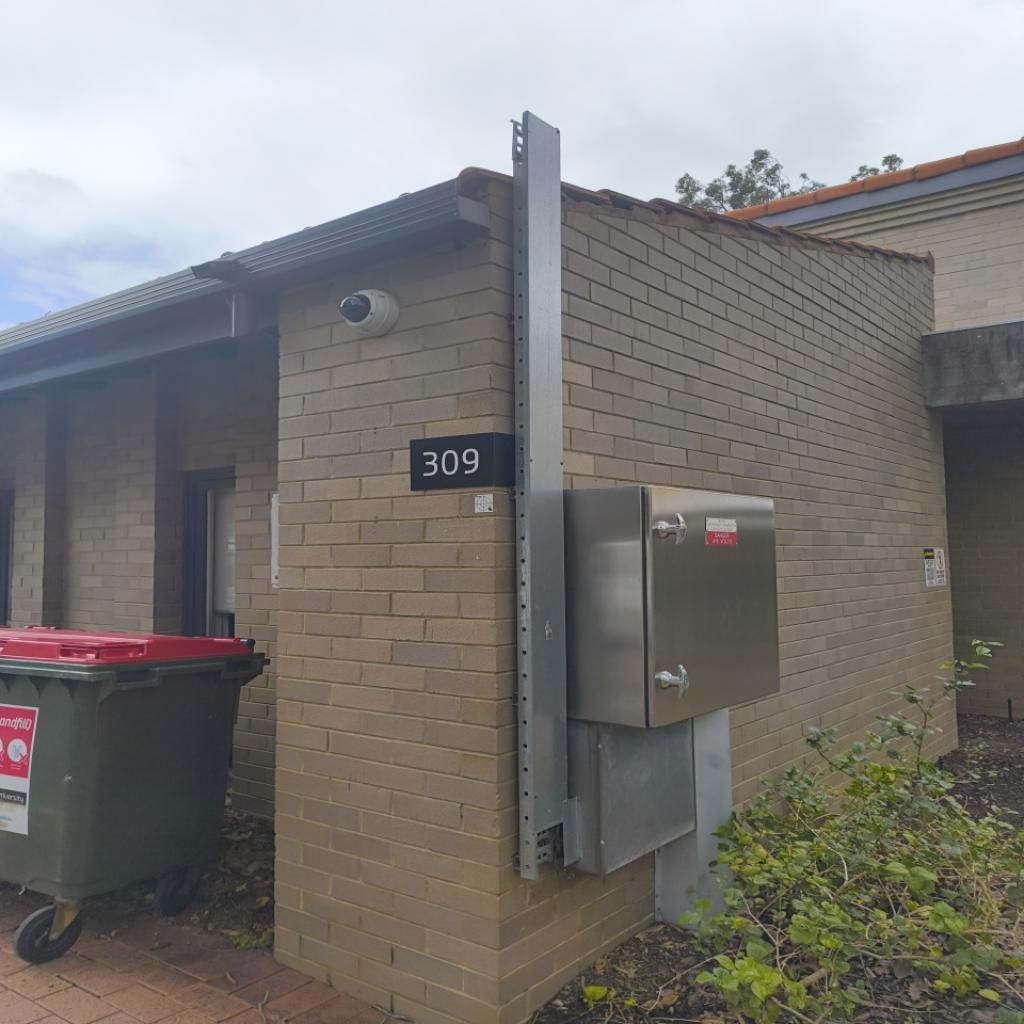BuildingCodes: (420, 444, 484, 480)
